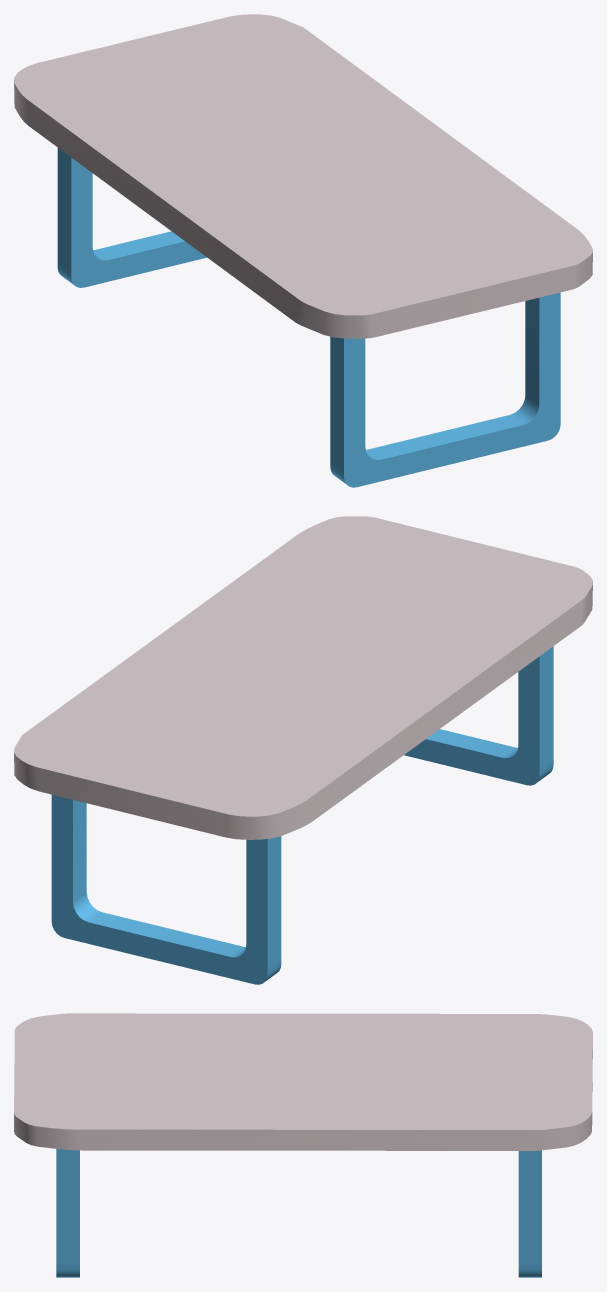
The model's file is table.fbx.
The picture shows the model from 3 angles, top to bottom: view 1: azimuth 30°, elevation 25°; view 2: azimuth 150°, elevation 25°; view 3: azimuth 270°, elevation 25°; orthographic projection. The views are drawn at different scales.
Parts seen in each view (by area): view 1: table; view 2: table; view 3: table.
Part boxes in pixels (x1,y1,x2,y2): table: [14, 14, 592, 487]; table: [14, 516, 592, 984]; table: [14, 1013, 592, 1277].
Size of the model in its own units: 2.03 by 1.31 by 4.21.
